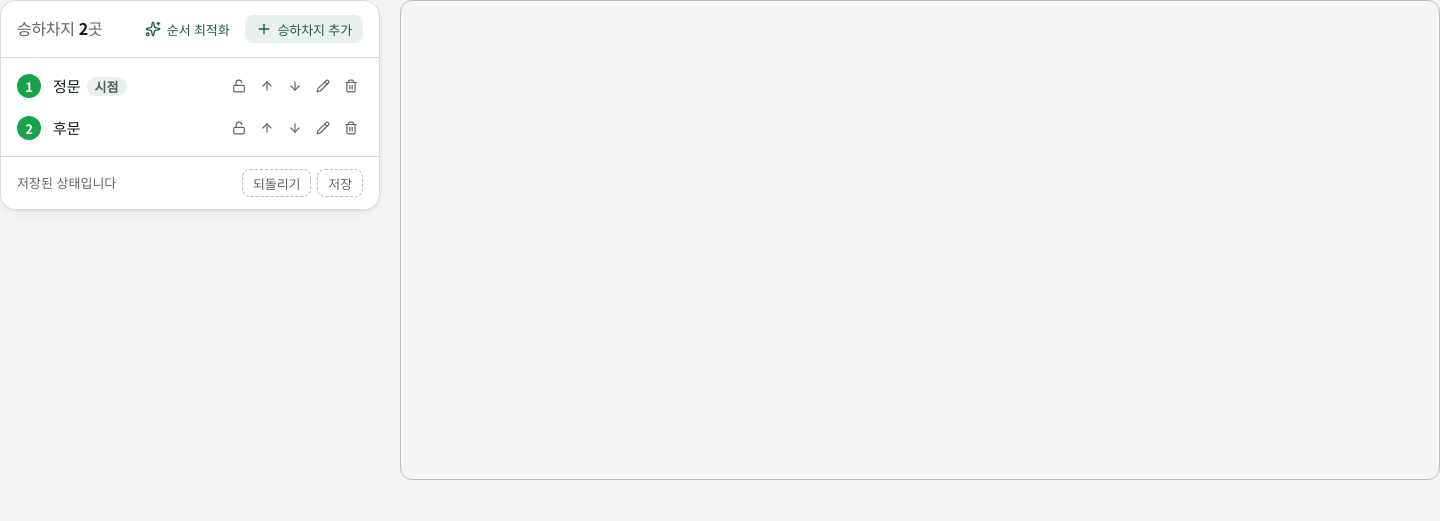
Test case: RouteStopsPanel — 저장 버튼을 눌러야 반영된다(지시 7) › 되돌리기를 누르면 마지막으로 저장된 목록으로 돌아가고 저장은 다시 막힌다
Check: the text "정문" is shown, box [53,76,81,96]
Check: the button "저장" is disabled, box [317,169,363,197]
Click the button named "후문 삭제": (351, 128) [337,114,365,142]
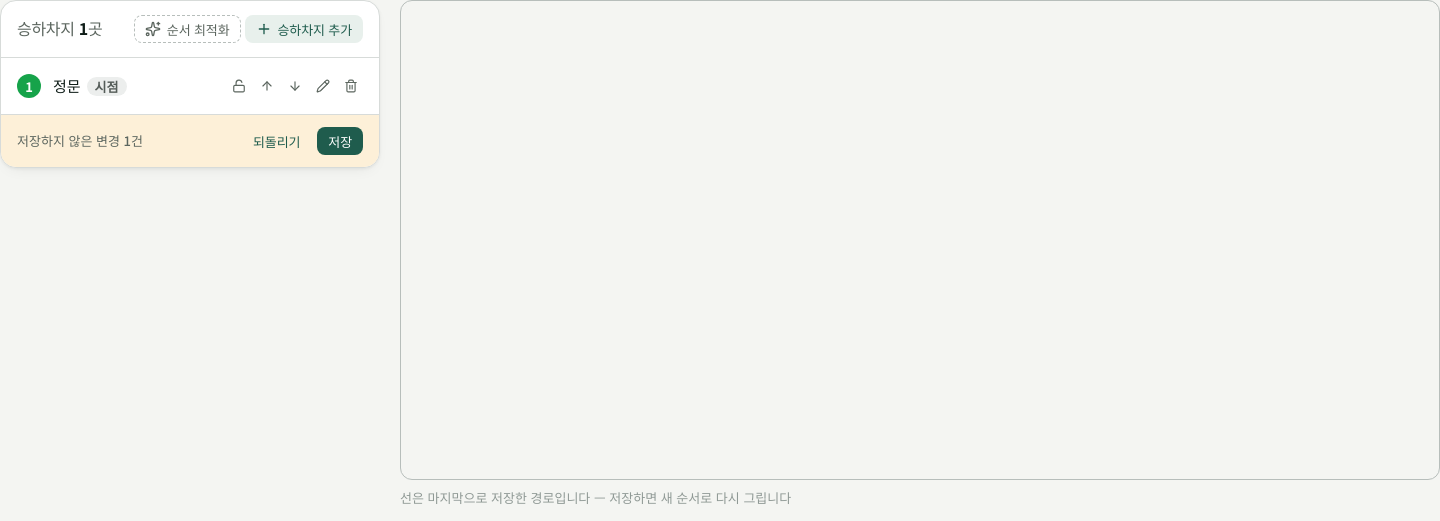
Check: the button "저장" is enabled, box [317,127,363,155]
Click the button "되돌리기": (277, 141) [242,127,311,155]
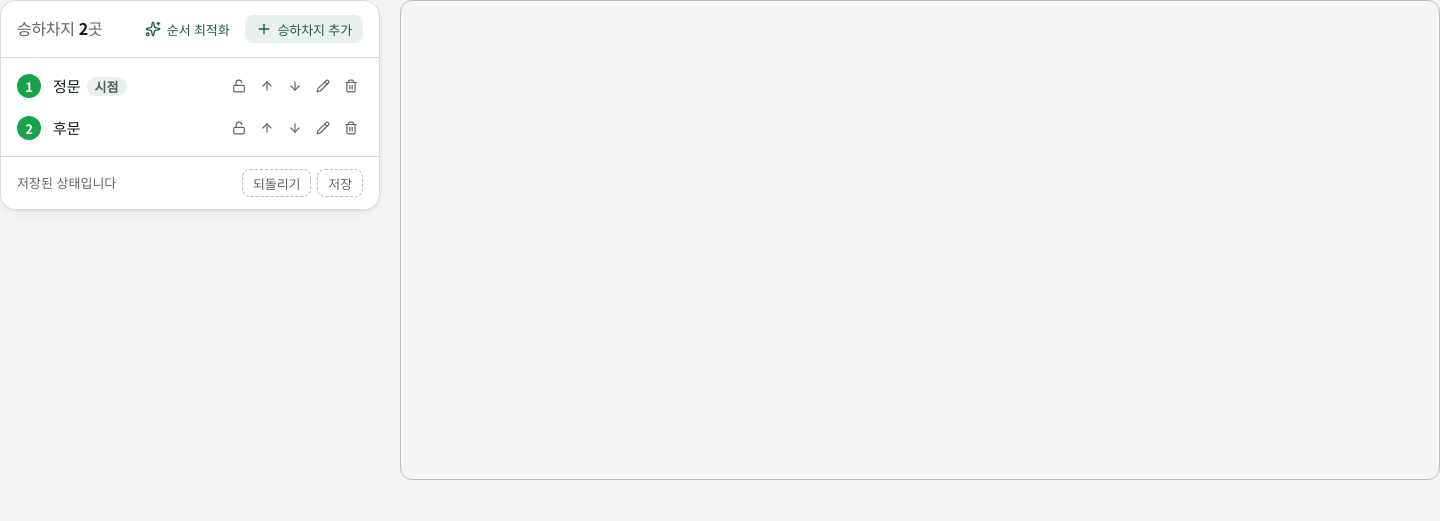
Check: the text "후문" is shown, box [53,118,81,138]
Check: the button "저장" is disabled, box [317,169,363,197]
